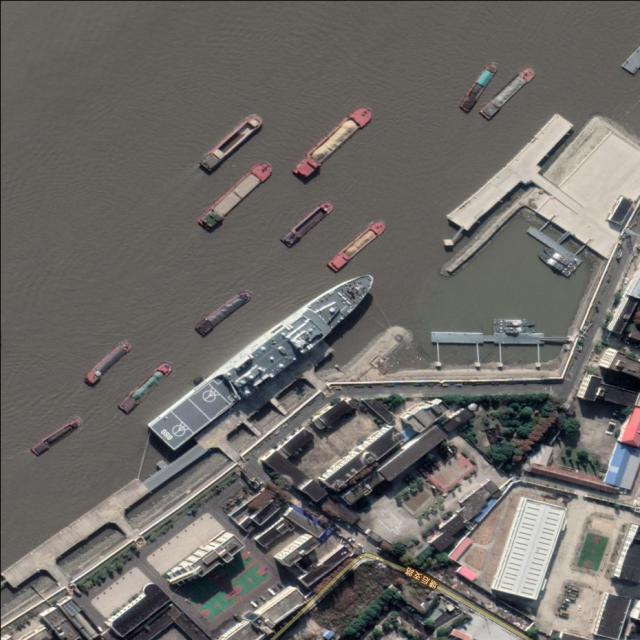Cargo: (288, 100, 377, 186), (198, 159, 277, 233), (197, 109, 266, 177), (326, 217, 389, 275), (476, 64, 538, 122), (117, 357, 176, 416), (193, 284, 256, 339), (281, 198, 336, 251), (83, 336, 136, 388), (457, 58, 501, 116), (28, 415, 83, 459)
Landing: (144, 253, 383, 458)
Other Warship: (536, 250, 572, 279), (543, 244, 576, 272), (493, 318, 535, 326), (493, 326, 535, 333)
